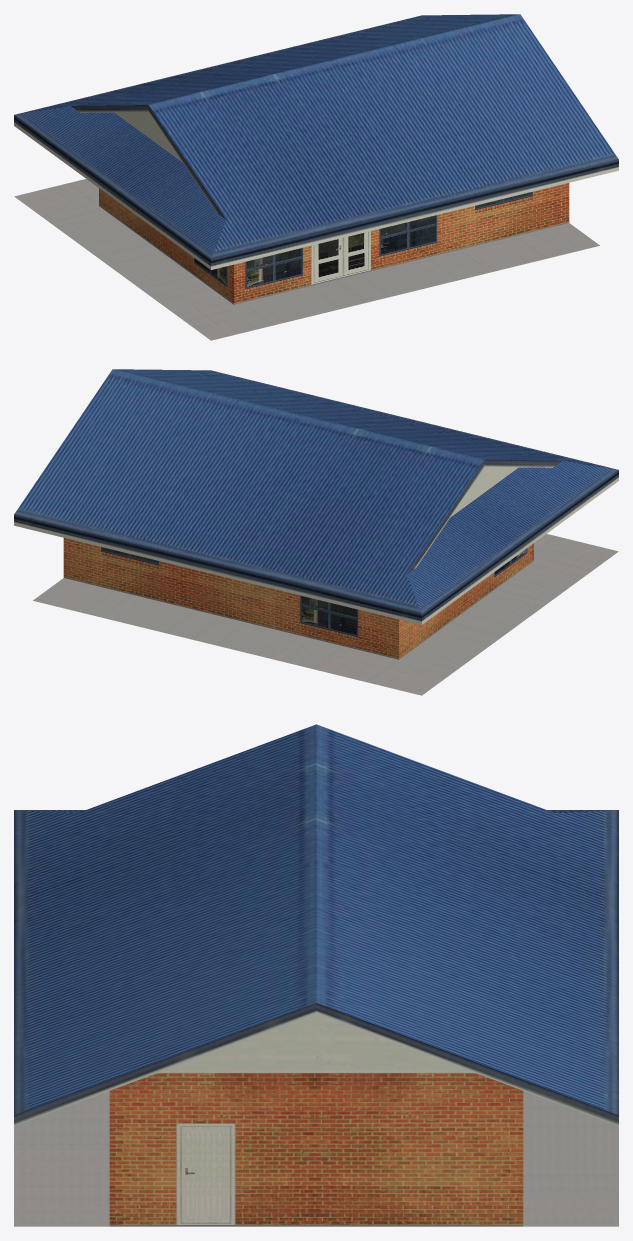
Rendered from terminal-small-07-13x11-cbj_LOD01.gltf.
3 views of the same model, one above another, from view 1: azimuth 30°, elevation 25°; view 2: azimuth 150°, elevation 25°; view 3: azimuth 270°, elevation 25° (orthographic). The views are drawn at different scales.
Parts seen in each view (by area): view 1: Sketchup01; view 2: Sketchup01; view 3: Sketchup01.
Part boxes in pixels (x1,y1,x2,y2): Sketchup01: (14,14,618,340); Sketchup01: (14,369,618,695); Sketchup01: (14,724,618,1226).
Size of the model in its own units: 13.62 by 4.94 by 11.4.
